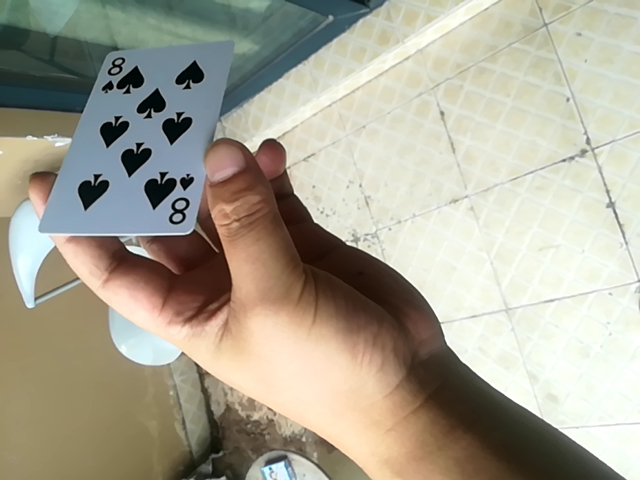ht 8: (38, 42, 227, 236)
